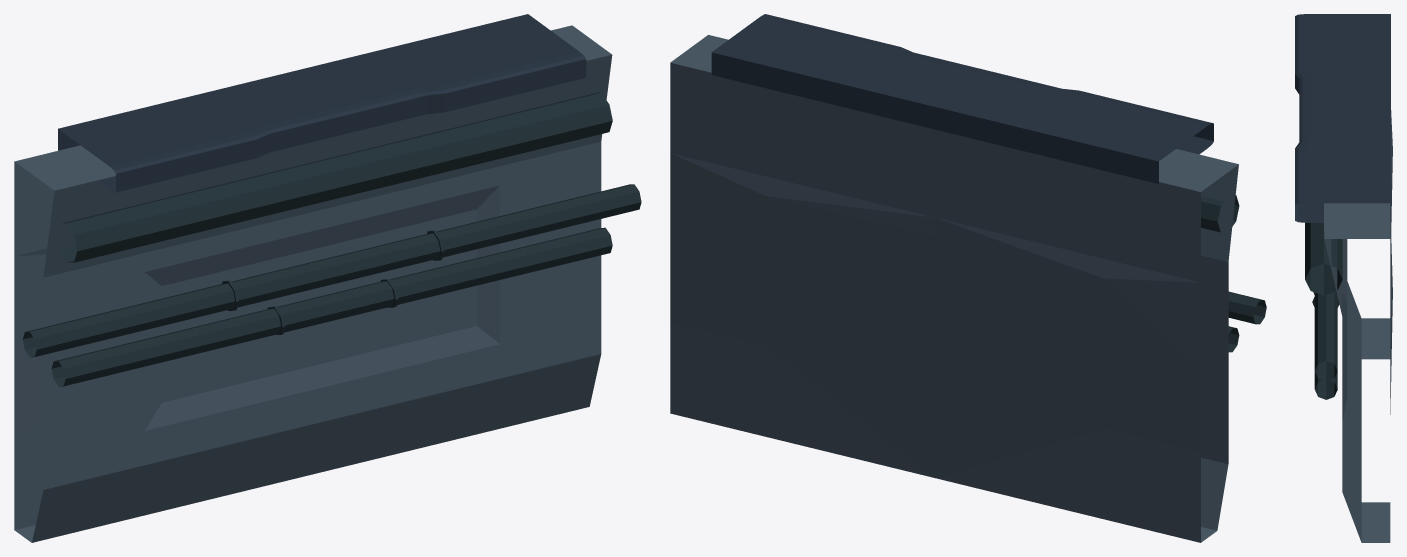
File: SM_wall_middle_no_door (1).fbx
The picture shows the model from 3 angles, left to right: view 1: azimuth 30°, elevation 25°; view 2: azimuth 150°, elevation 25°; view 3: azimuth 270°, elevation 25°; orthographic projection. The views are drawn at different scales.
Visible parts, largest first — view 1: Wall - MiddleNoDoor; view 2: Wall - MiddleNoDoor; view 3: Wall - MiddleNoDoor.
Part boxes in pixels (<box>): Wall - MiddleNoDoor: <box>14,14,641,542</box>; Wall - MiddleNoDoor: <box>670,14,1266,542</box>; Wall - MiddleNoDoor: <box>1295,14,1392,542</box>.
Size of the model in its own units: 601 by 371 by 102.
